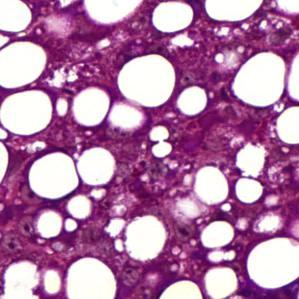steatosis: (114, 54, 182, 106), (231, 55, 289, 111), (1, 88, 52, 138), (29, 154, 81, 200), (194, 168, 232, 206)
